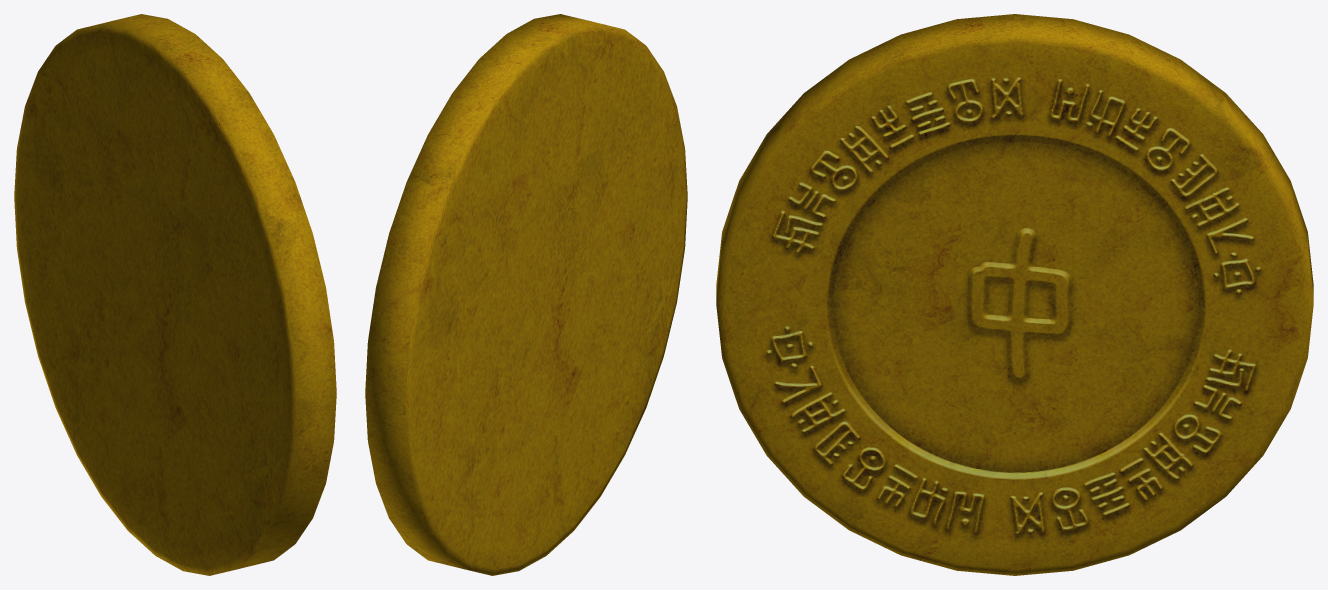
File: medalhões.fbx
The picture shows the model from 3 angles, left to right: view 1: azimuth 30°, elevation 25°; view 2: azimuth 150°, elevation 25°; view 3: azimuth 270°, elevation 25°; orthographic projection. The views are drawn at different scales.
Visible parts, largest first — view 1: Cylinder; view 2: Cylinder; view 3: Cylinder.
Boxes of the visible parts, x1=… form: Cylinder: x1=14, y1=14, x2=336, y2=575; Cylinder: x1=365, y1=14, x2=687, y2=575; Cylinder: x1=716, y1=14, x2=1313, y2=575.
Bounding box in the file's own units: 3.58 × 39.54 × 39.54.
